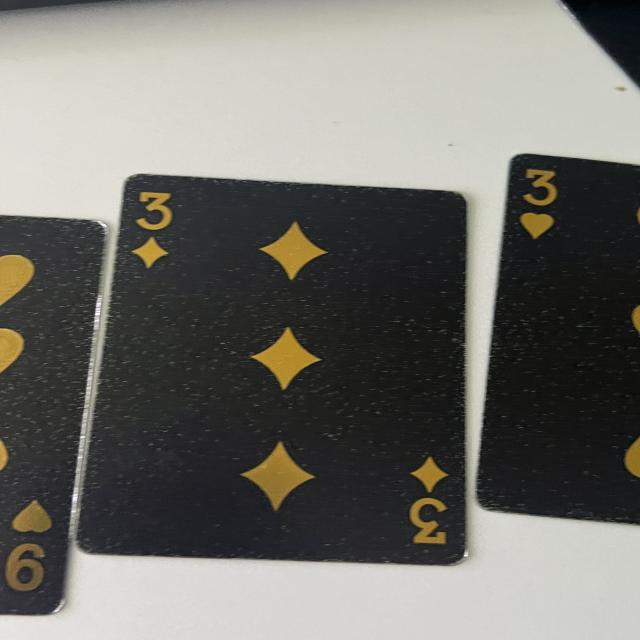3D: (404, 454, 465, 558), (122, 184, 182, 272)
3H: (522, 168, 563, 244)
9H: (0, 499, 56, 600)
